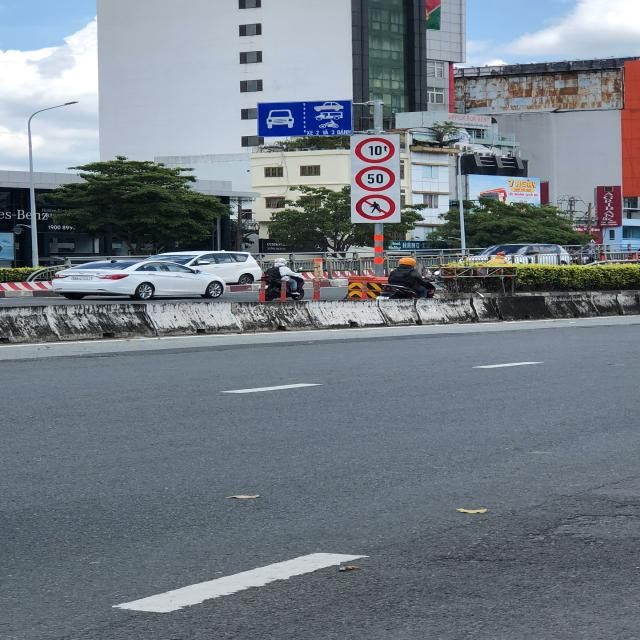Bien bao cam nguoi di bo: (353, 193, 397, 221)
Bien bao toc do toi da cho phep: (353, 164, 405, 192)
